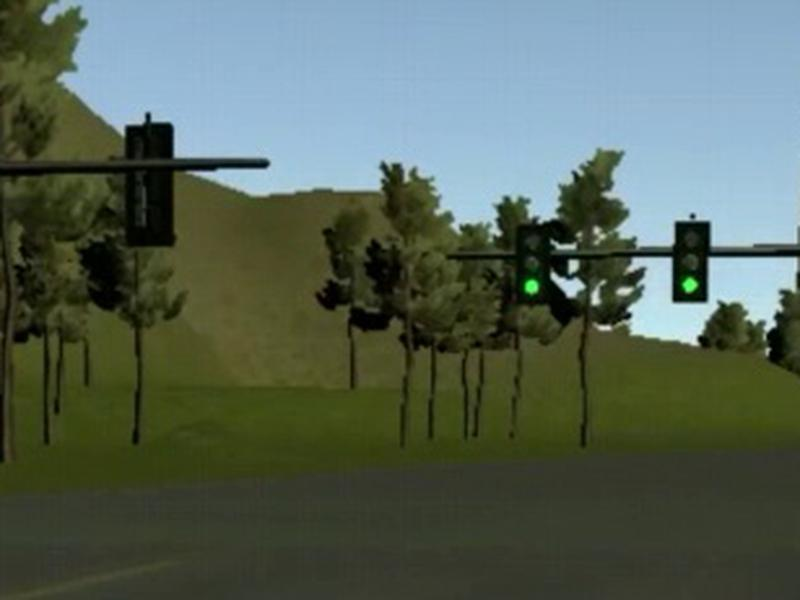Green: (671, 219, 711, 304), (515, 223, 549, 304)
